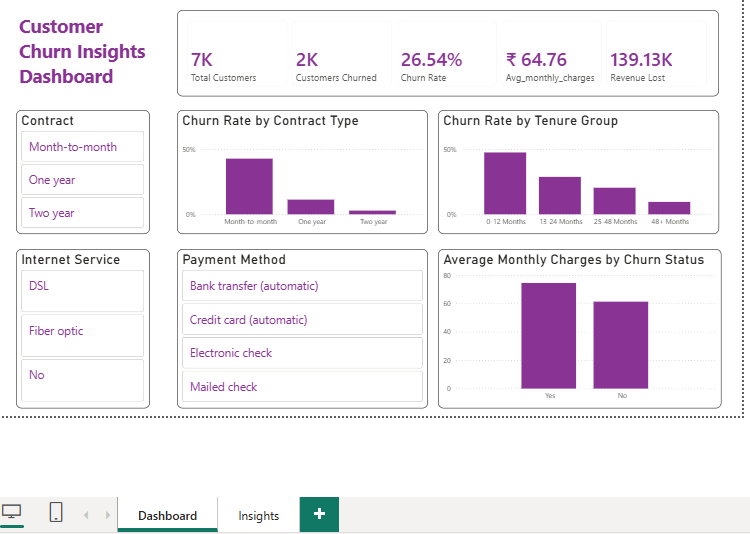

The dashboard page shown, as its layout file describes it:
{"tool":"powerbi","page":{"name":"Dashboard","canvas":[1280,720],"ordinal":0},"visuals":[{"type":"cardVisual","fields":{"Data":["churn_table.Total Customers","churn_table.Customers Churned","churn_table.Churn Rate","churn_table.Avg Monthly Charges","churn_table.Revenue Lost"]},"box":[306.2,18.4,935.1,149.4],"z":0},{"type":"clusteredColumnChart","title":"Churn Rate by Contract Type","fields":{"Category":["churn_table.Contract"],"Y":["churn_table.Churn Rate"]},"box":[306.2,191.8,433.4,213.9],"z":1000},{"type":"clusteredColumnChart","fields":{"Category":["churn_table.Tenure Group"],"Y":["churn_table.Churn Rate"]},"box":[756.2,191.8,485.1,213.9],"z":2000},{"type":"clusteredColumnChart","title":"Average Monthly Charges by Churn Status","fields":{"Category":["churn_table.Churn"],"Y":["Avg(churn_table.MonthlyCharges)"]},"box":[756.2,431.6,488.8,274.8],"z":3000},{"type":"advancedSlicerVisual","fields":{"Values":["churn_table.Contract"]},"box":[27.7,191.8,230.5,213.9],"z":4000},{"type":"advancedSlicerVisual","title":"Payment Method","fields":{"Values":["churn_table.PaymentMethod"]},"box":[306.2,431.6,433.4,274.8],"z":5000},{"type":"advancedSlicerVisual","title":"Internet Service","fields":{"Values":["churn_table.InternetService"]},"box":[27.7,431.6,230.5,274.8],"z":6000},{"type":"textbox","box":[27.7,18.4,245.3,149.4],"z":7000}]}

Visuals, with their boxes in screenshot pixels (x1, y1, x2, y2):
cardVisual - churn_table.Total Customers x churn_table.Customers Churned: [left=177, top=9, right=717, bottom=95]
"Churn Rate by Contract Type" clusteredColumnChart: [left=177, top=109, right=427, bottom=232]
clusteredColumnChart - churn_table.Tenure Group x churn_table.Churn Rate: [left=437, top=109, right=717, bottom=232]
"Average Monthly Charges by Churn Status" clusteredColumnChart: [left=437, top=247, right=719, bottom=406]
advancedSlicerVisual - churn_table.Contract: [left=16, top=109, right=149, bottom=232]
"Payment Method" advancedSlicerVisual: [left=177, top=247, right=427, bottom=406]
"Internet Service" advancedSlicerVisual: [left=16, top=247, right=149, bottom=406]
textbox: [left=16, top=9, right=158, bottom=95]
